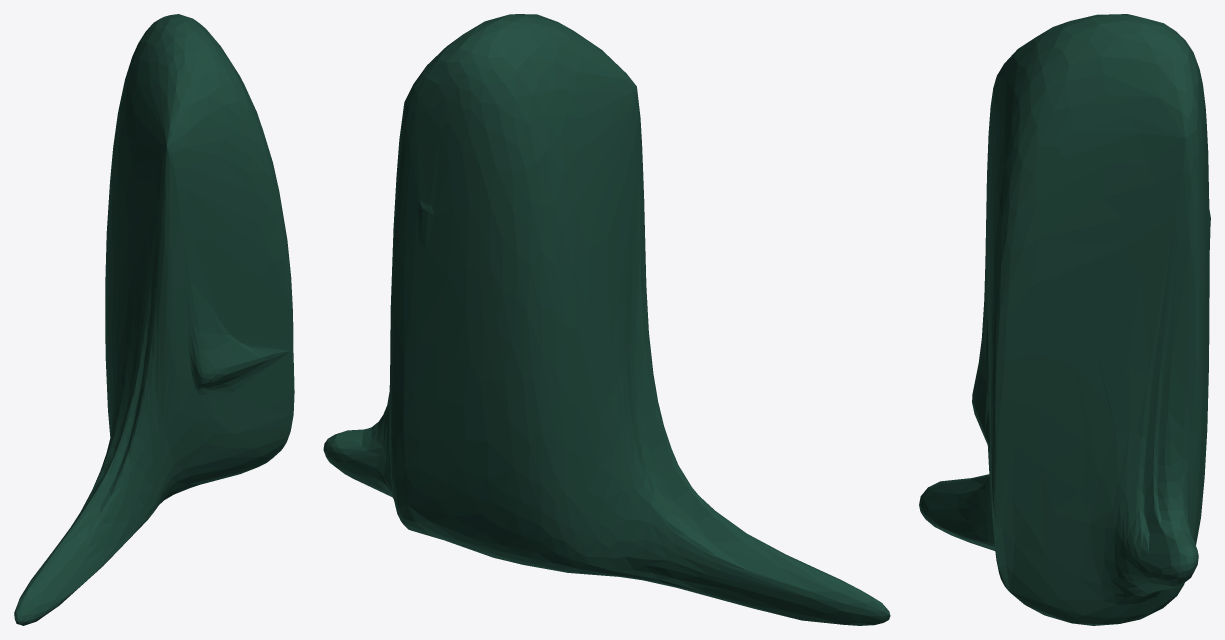
3 views of the same model, side by side, from view 1: azimuth 30°, elevation 25°; view 2: azimuth 150°, elevation 25°; view 3: azimuth 270°, elevation 25° (orthographic). The views are drawn at different scales.
Parts seen in each view (by area): view 1: 607_Cube.2443; view 2: 607_Cube.2443; view 3: 607_Cube.2443.
Part boxes in pixels (box(x1,y1,x2,y2)): 607_Cube.2443: box(14, 14, 294, 625); 607_Cube.2443: box(323, 14, 890, 625); 607_Cube.2443: box(919, 14, 1210, 625).
Bounding box in the file's own units: 9.82 × 12.72 × 5.21.
